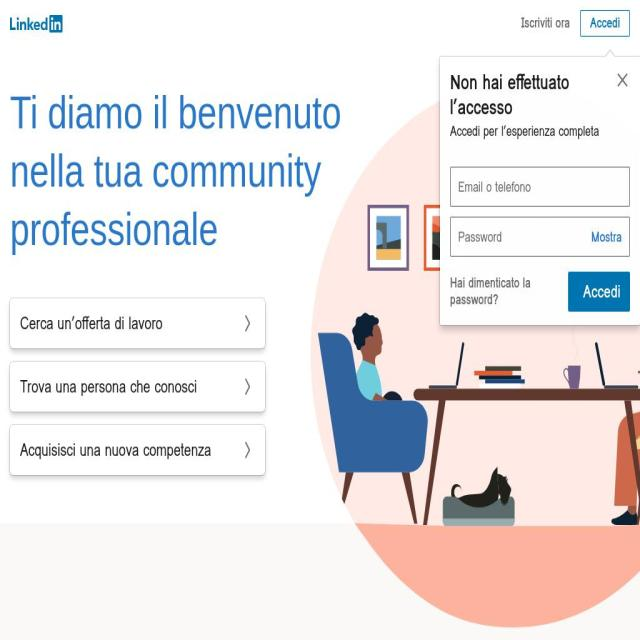button: (10, 298, 265, 348), (10, 362, 265, 412), (10, 425, 265, 475), (450, 275, 563, 308), (568, 272, 630, 312), (583, 217, 630, 258), (516, 10, 575, 37), (579, 10, 630, 37), (608, 60, 638, 100), (10, 14, 62, 33)
field: (450, 166, 630, 206), (450, 216, 584, 256)
heading: (10, 84, 351, 258), (450, 70, 630, 120), (450, 123, 630, 140)
image: (296, 81, 640, 640), (10, 14, 62, 33), (615, 70, 630, 90), (240, 314, 255, 334), (240, 376, 255, 396), (240, 440, 255, 460)
label: (450, 166, 630, 206), (450, 216, 630, 256)
text: (20, 438, 211, 462), (20, 375, 198, 398), (20, 312, 163, 335)
